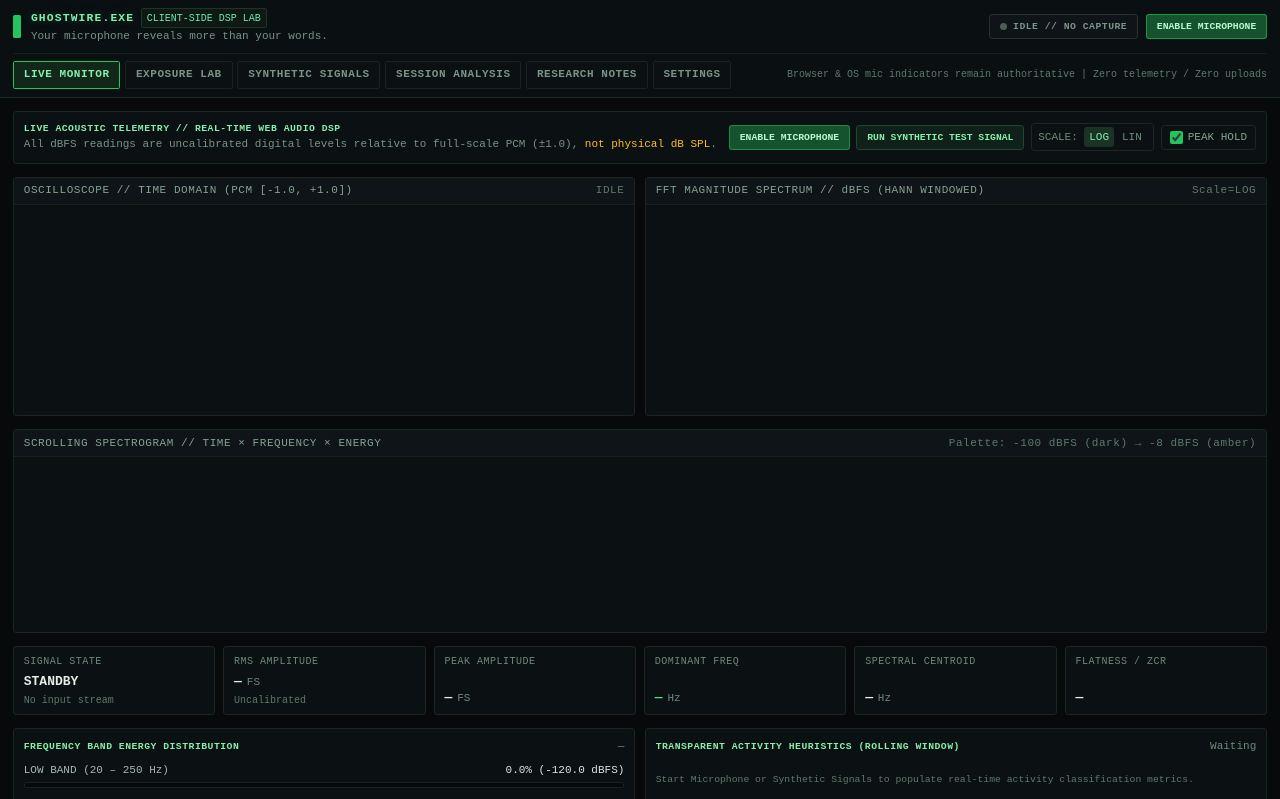
Test: GHOSTWIRE.EXE Privacy, Microphone Lifecycle & Synthetic Integration › runs Synthetic Signals mode completely without microphone permission and verifies DSP checks
Click the button "SYNTHETIC SIGNALS" at [309, 75], box [237,60,380,89]
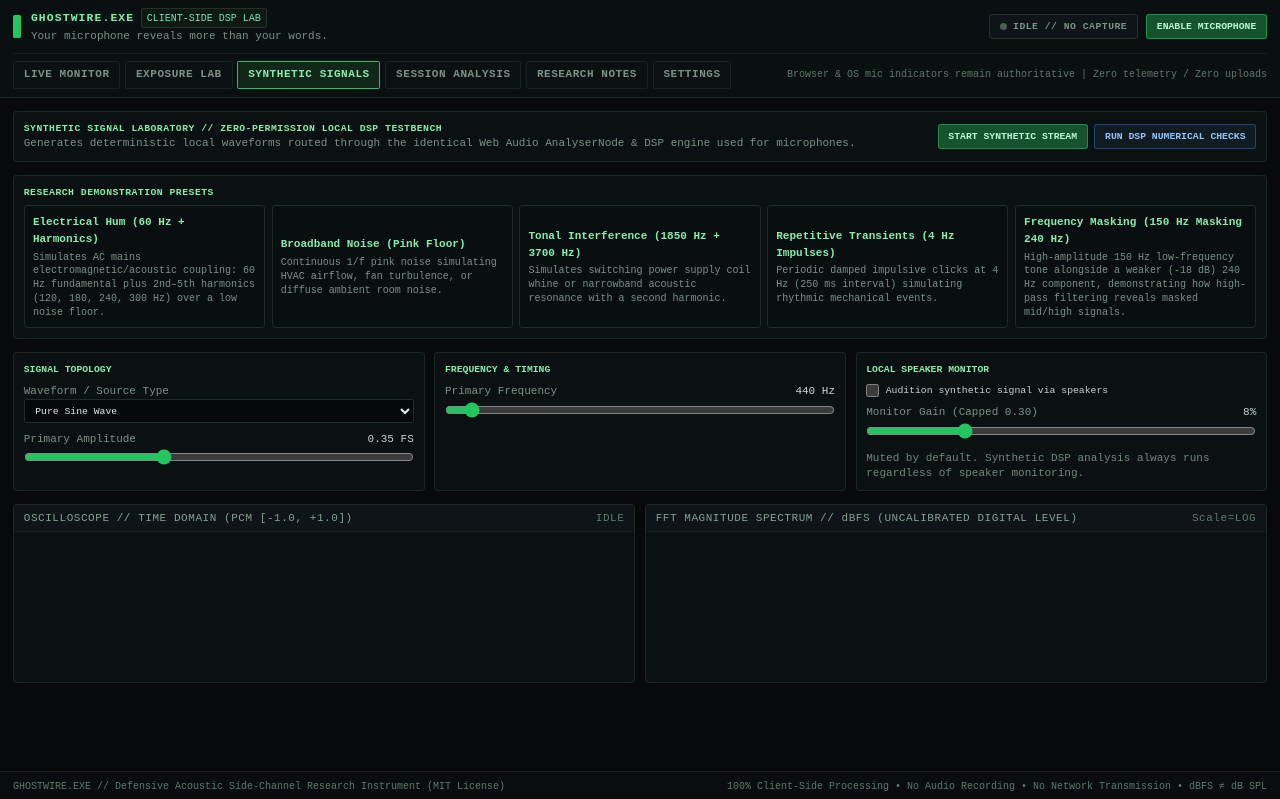
Click the button "START SYNTHETIC STREAM" at [1013, 136], box [938,124,1088,149]
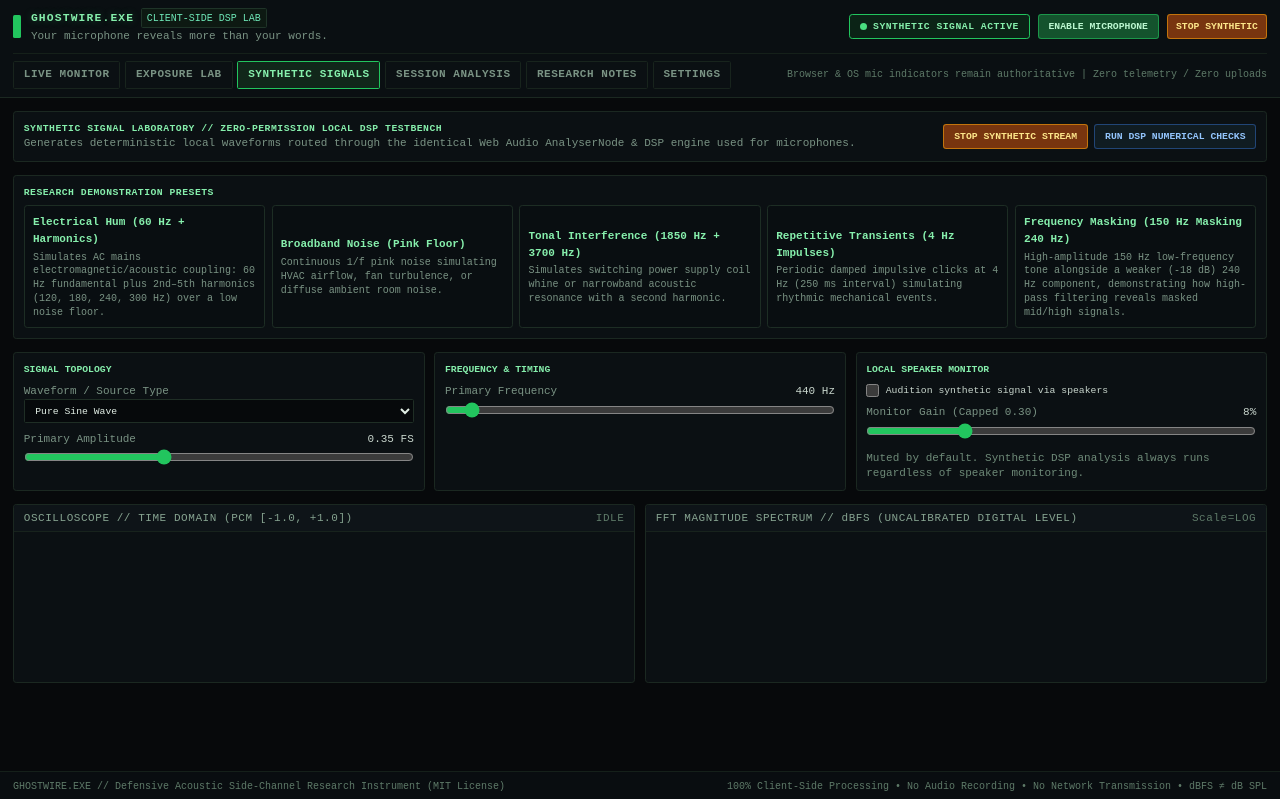
Now the text "SYNTHETIC SIGNAL ACTIVE" is shown, box [849,14,1030,39]
Click the button "RUN DSP NUMERICAL CHECKS" at [1175, 136], box [1094,124,1256,149]
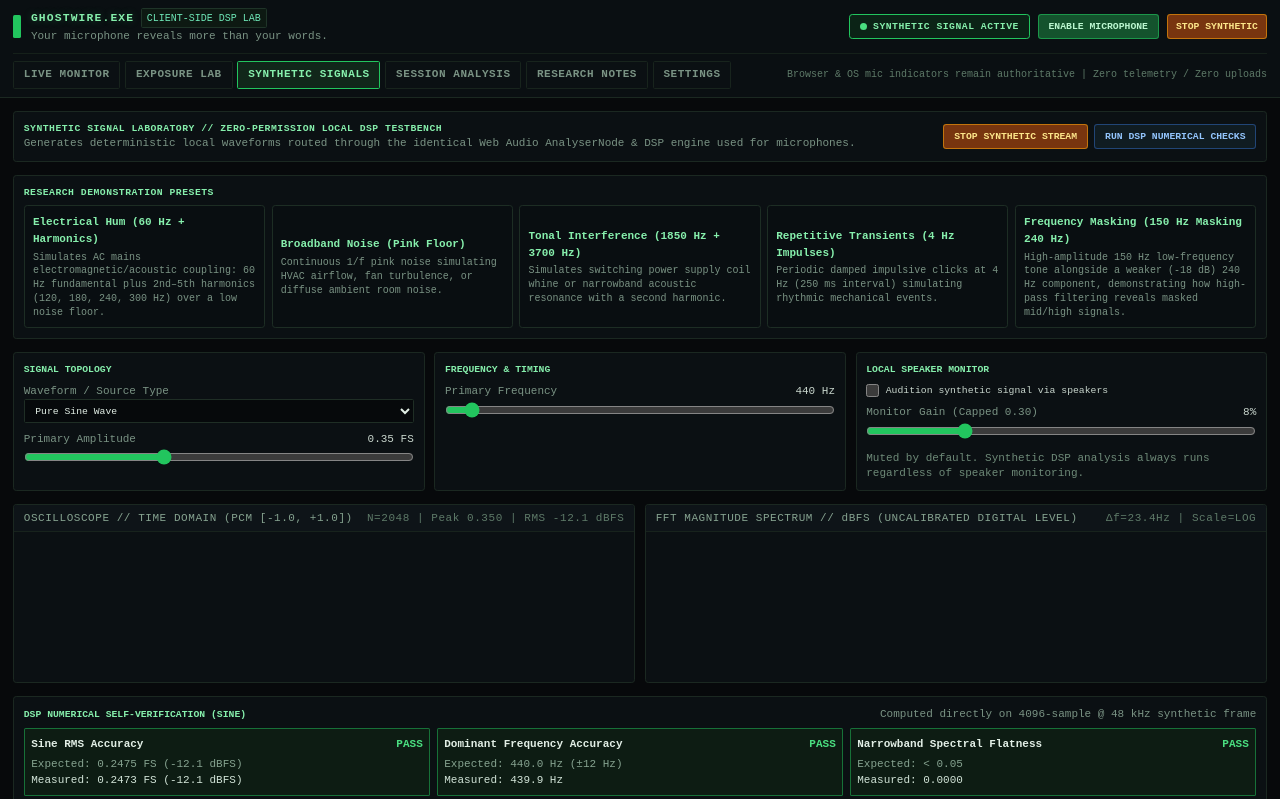
Now the text "Sine RMS Accuracy" is shown, box [31,736,144,752]
